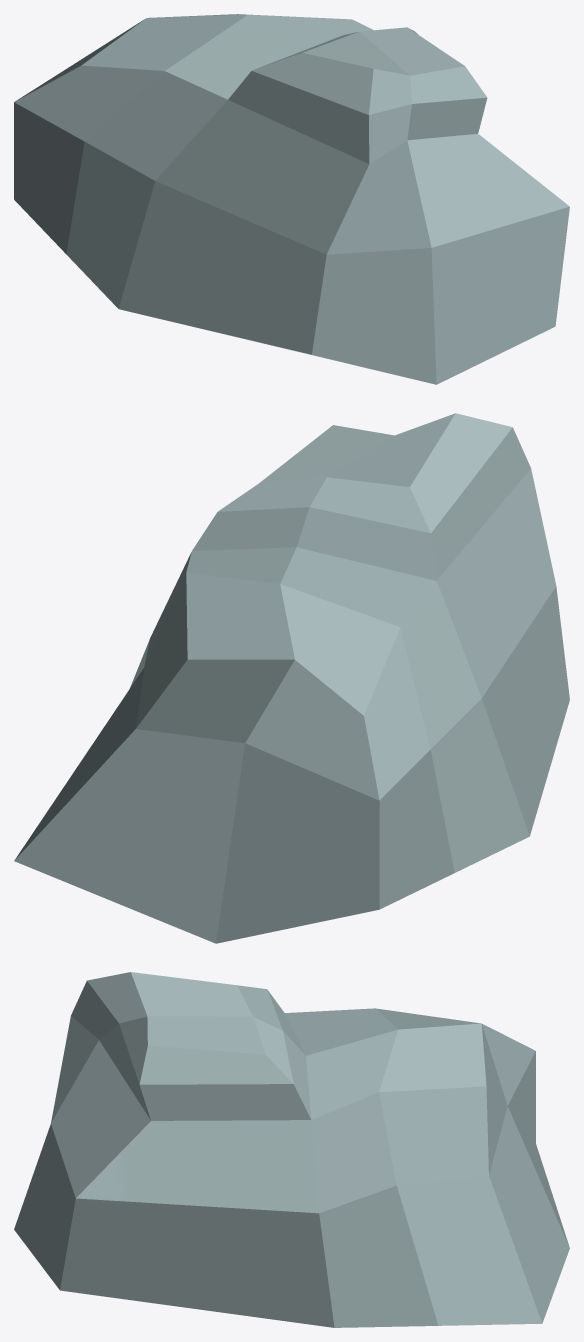
The model's file is SmallRock1.fbx.
3 views of the same model, one above another, from view 1: azimuth 30°, elevation 25°; view 2: azimuth 150°, elevation 25°; view 3: azimuth 270°, elevation 25° (orthographic). The views are drawn at different scales.
Parts seen in each view (by area): view 1: SmallRock1; view 2: SmallRock1; view 3: SmallRock1.
Part boxes in pixels (x1,y1,x2,y2): SmallRock1: (14,14,569,384); SmallRock1: (14,413,569,943); SmallRock1: (14,972,569,1327).
Size of the model in its own units: 1.69 by 1.44 by 2.54.
